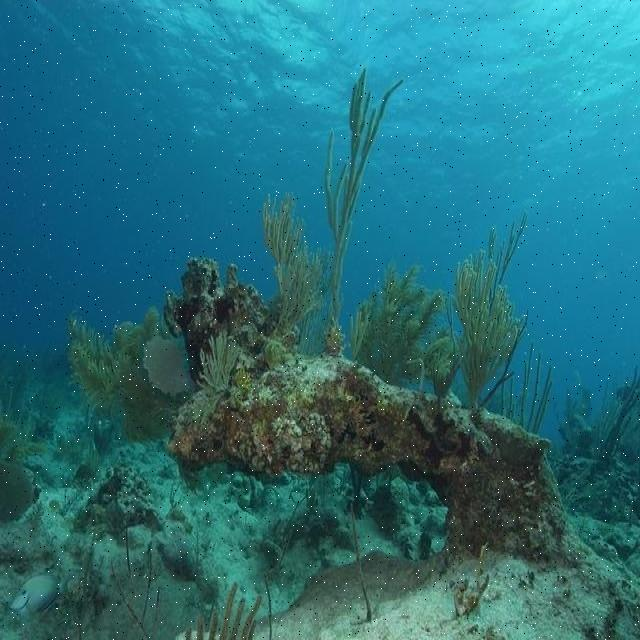aquatic plants: (350, 209, 530, 407), (70, 305, 194, 445), (325, 128, 380, 346), (260, 192, 331, 355), (192, 333, 239, 426), (219, 581, 262, 639)
sea-floor: (165, 256, 639, 639)
